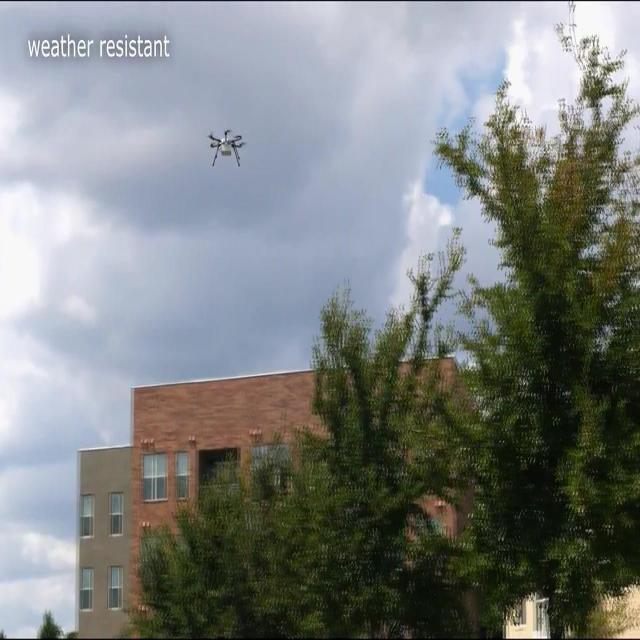UAV: (207, 129, 247, 167)
